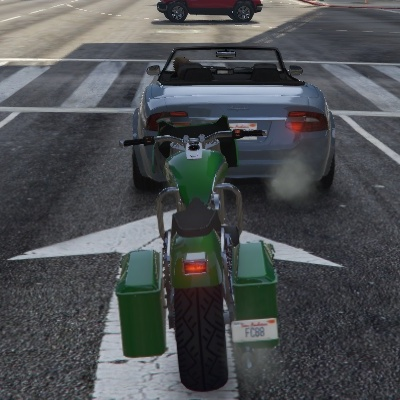on: (180, 247, 211, 279)
